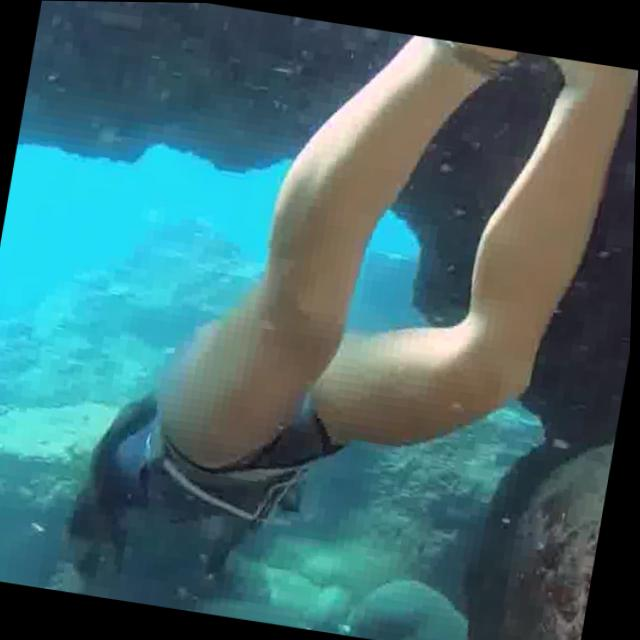human: (54, 1, 640, 640)
